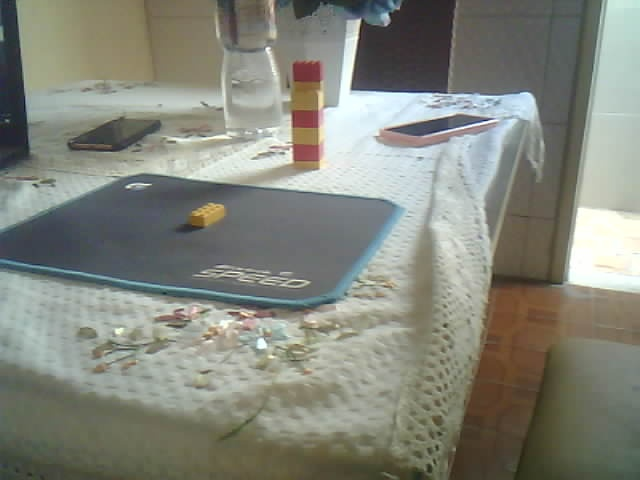lego: (290, 60, 325, 170), (189, 202, 226, 228)
